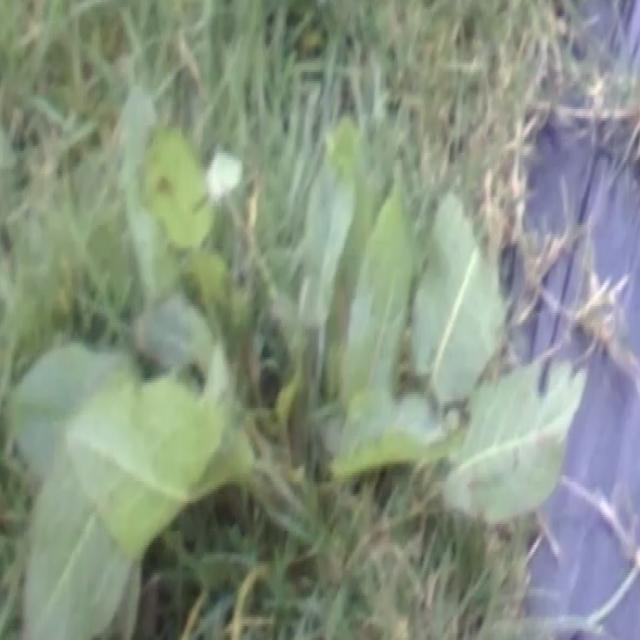organic waste: (0, 106, 600, 640)
